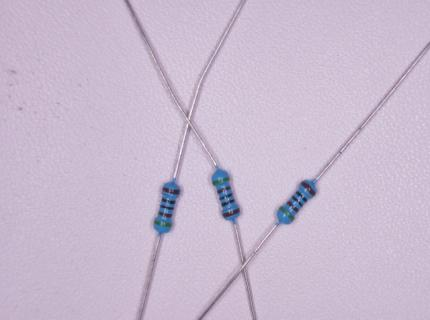Black band: (296, 191, 308, 203), (291, 196, 303, 207), (221, 199, 234, 207), (162, 198, 176, 205), (220, 193, 233, 200), (160, 205, 174, 210)
Brown band: (301, 181, 316, 197), (286, 199, 300, 213), (222, 208, 240, 218), (162, 187, 180, 195), (217, 186, 231, 194), (158, 211, 173, 218)
Green band: (278, 206, 295, 222), (212, 177, 230, 186), (154, 219, 172, 227)
